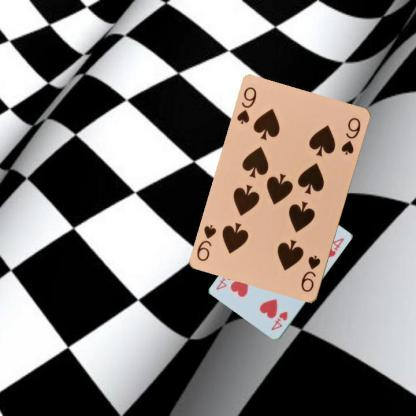4h: (269, 309, 289, 332)
9s: (298, 253, 323, 294), (234, 84, 258, 126)
